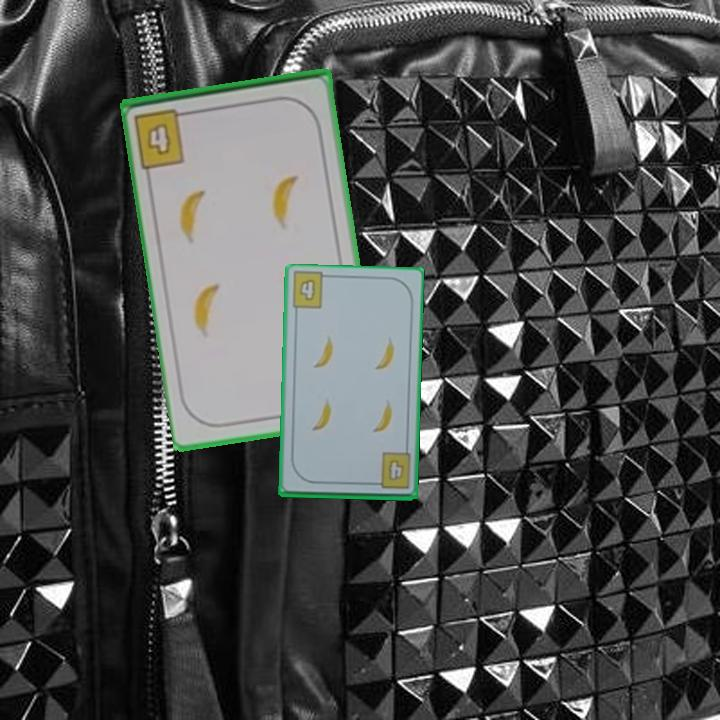4b: (131, 104, 196, 171), (368, 450, 413, 492), (296, 275, 318, 303)
